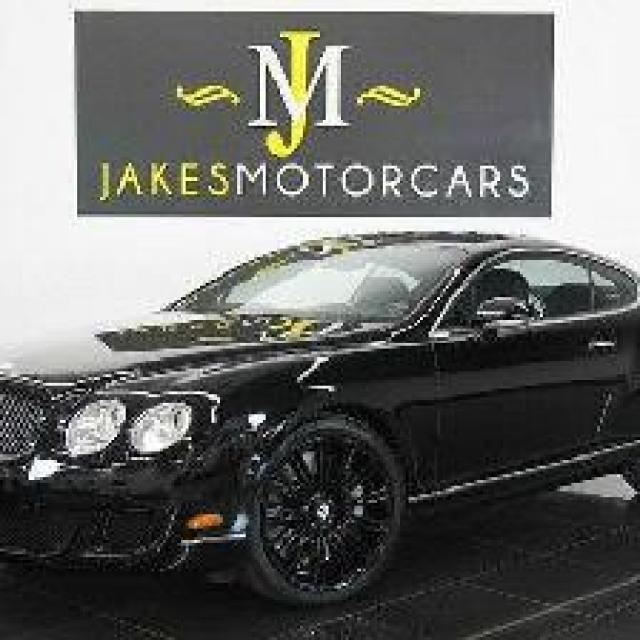damaged: (163, 434, 286, 569)
